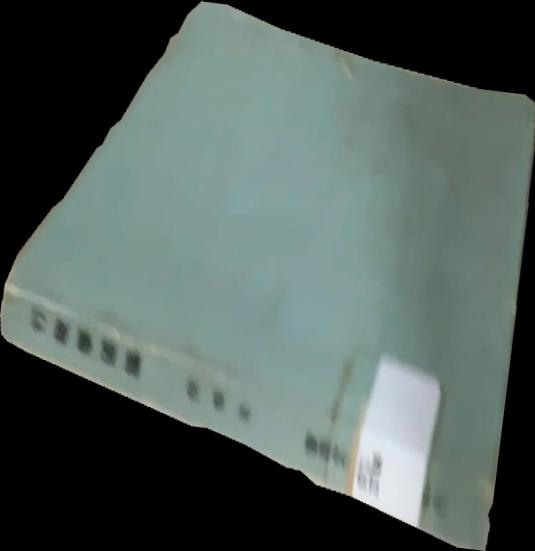flat: (1, 1, 535, 551)
